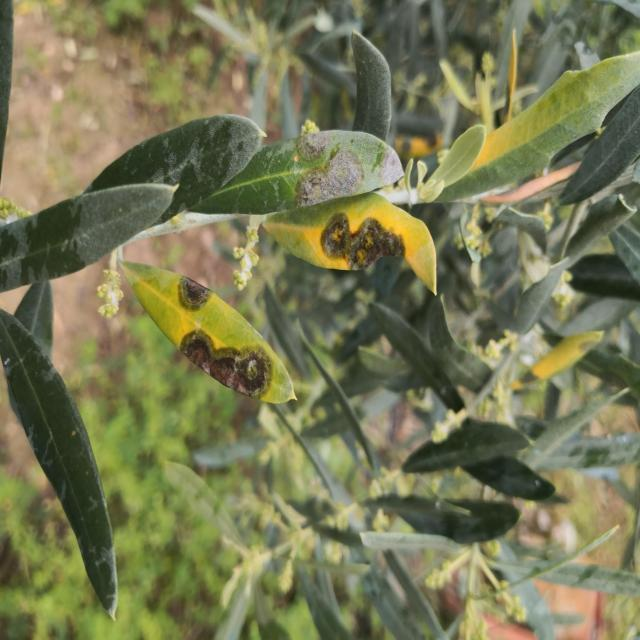OlivePeacockSpot: (121, 261, 296, 403), (264, 192, 436, 294)
